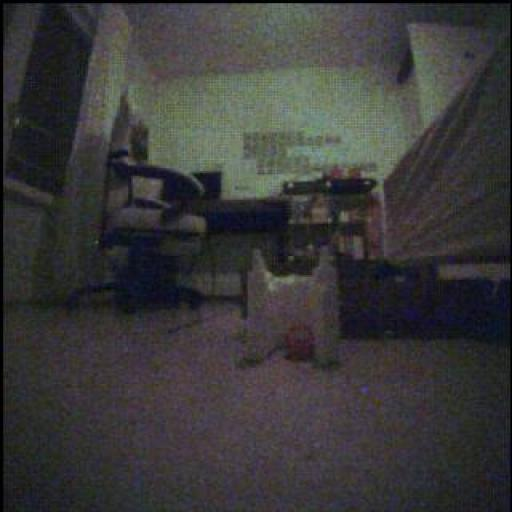basket: (288, 326, 317, 363)
